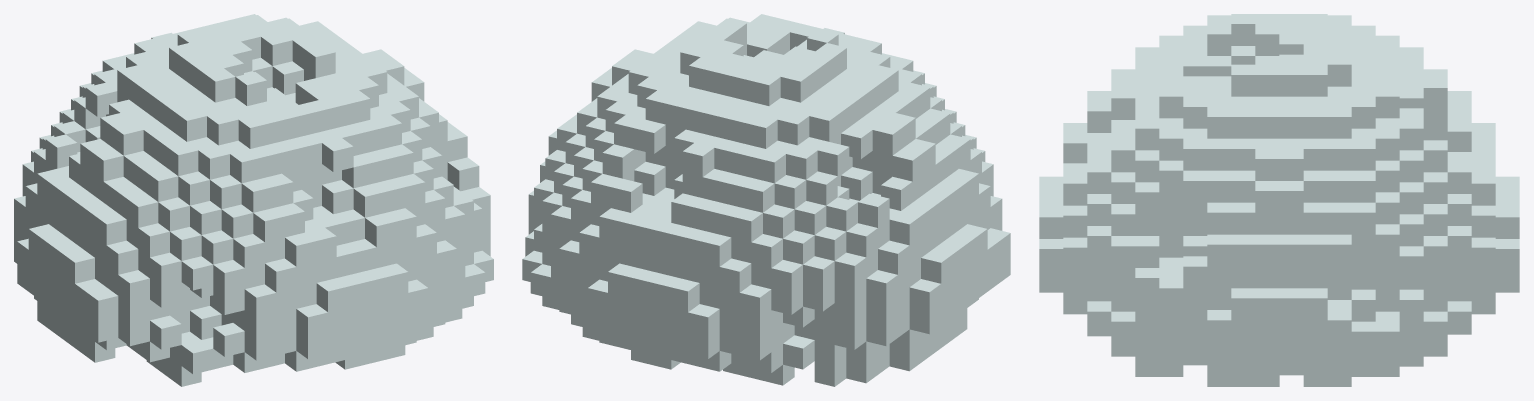
Rendered from Medieval Assets-31-Decoration - Swamp - Mushroom - Top.obj.
The picture shows the model from 3 angles, left to right: view 1: azimuth 30°, elevation 25°; view 2: azimuth 150°, elevation 25°; view 3: azimuth 270°, elevation 25°; orthographic projection. The views are drawn at different scales.
Parts seen in each view (by area): view 1: Decoration - Swamp - Mushroom - Top; view 2: Decoration - Swamp - Mushroom - Top; view 3: Decoration - Swamp - Mushroom - Top.
Part boxes in pixels (left/top/right/bottom): Decoration - Swamp - Mushroom - Top: left=14, top=14, right=493, bottom=386; Decoration - Swamp - Mushroom - Top: left=522, top=14, right=1010, bottom=386; Decoration - Swamp - Mushroom - Top: left=1039, top=14, right=1519, bottom=386.
Bounding box in the file's own units: 2 × 1.2 × 2.
Materials: 1 (1 with a texture image).
